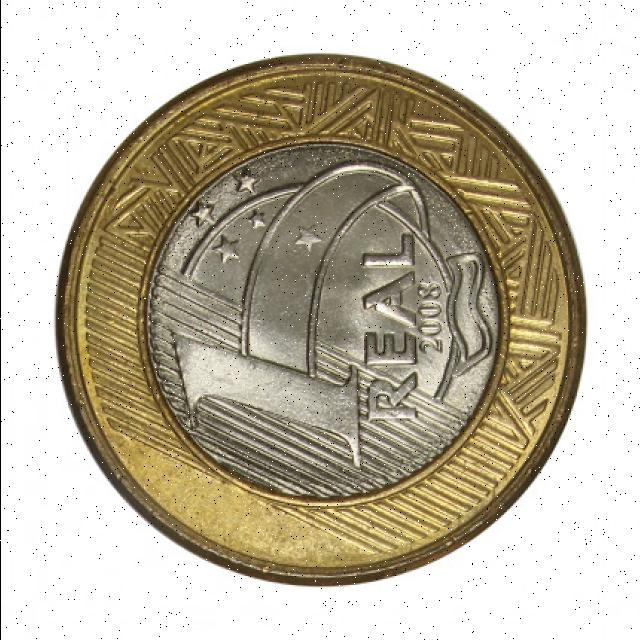1 real: (51, 56, 588, 586)
